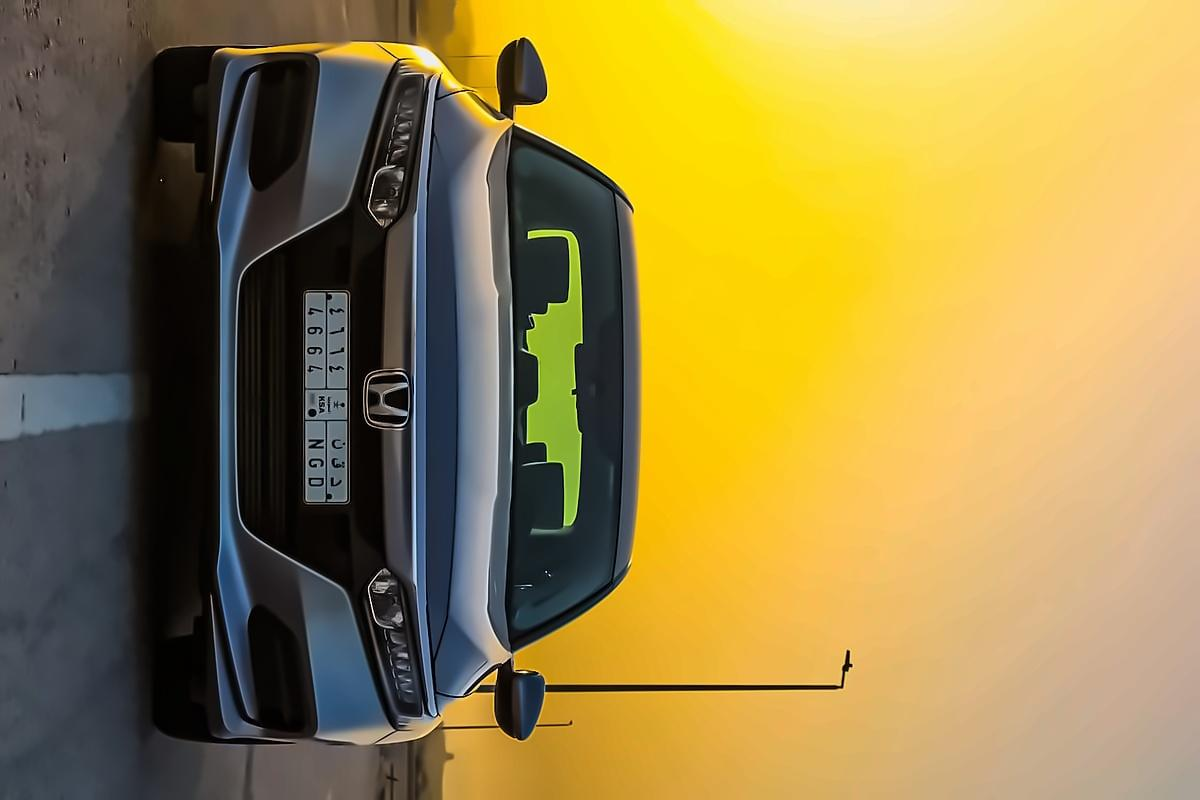Car hood: (411, 88, 505, 727)
Front bumper: (181, 43, 398, 747)
Headlight - -L-: (358, 566, 435, 738)
Headlight - -R-: (364, 49, 445, 231)
Side mirror - -L-: (490, 659, 548, 745)
Side mirror - -R-: (490, 33, 547, 127)
